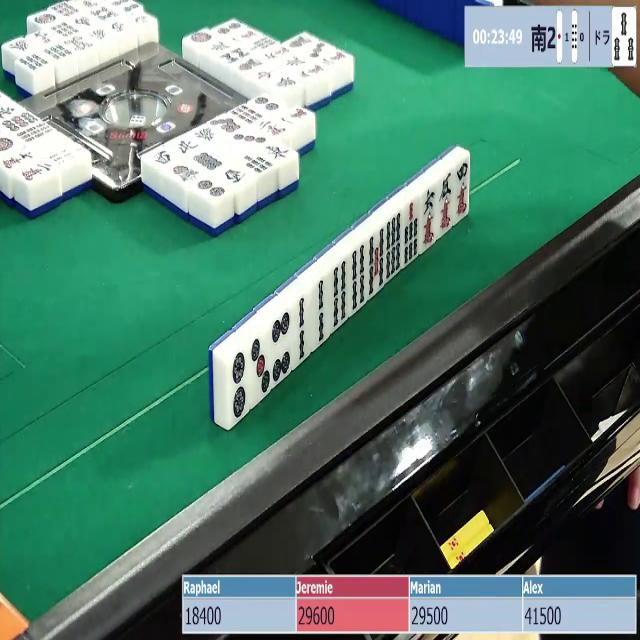m4: (453, 158, 471, 219)
m5: (439, 171, 456, 236)
m6: (423, 186, 438, 248)
s2: (292, 294, 313, 368), (311, 276, 332, 346)
s3: (613, 9, 637, 66)
s4: (329, 261, 354, 331), (349, 244, 371, 314)
s5: (365, 232, 386, 298)
s6: (383, 212, 405, 282)
s7: (404, 198, 422, 265)
t2: (230, 346, 252, 424)
t3: (249, 330, 271, 402)
t4: (268, 310, 294, 378)
